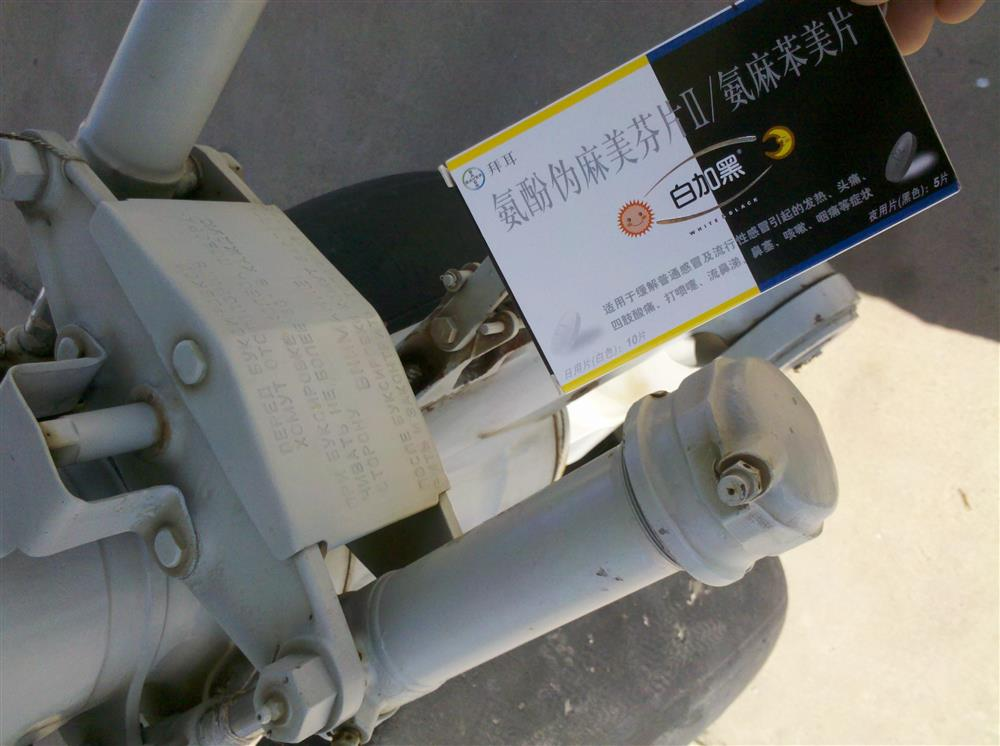Pills_package: (437, 5, 961, 393)
